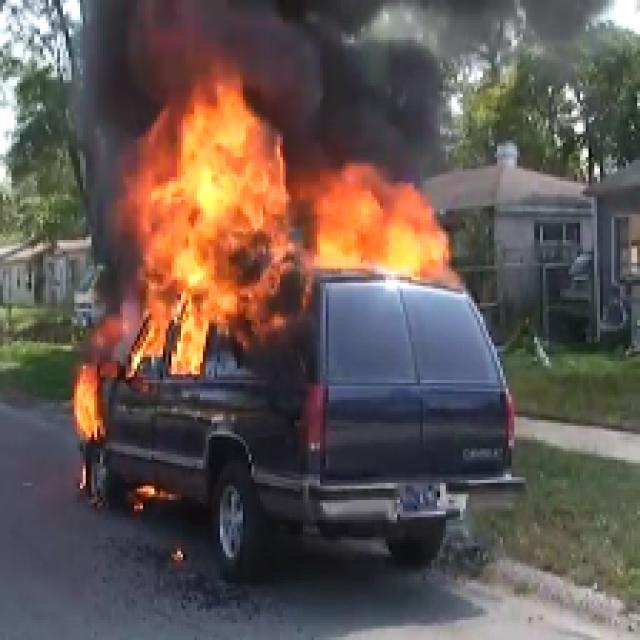Fire: (110, 77, 472, 356), (70, 358, 118, 448)
Smoke: (87, 0, 449, 78)
